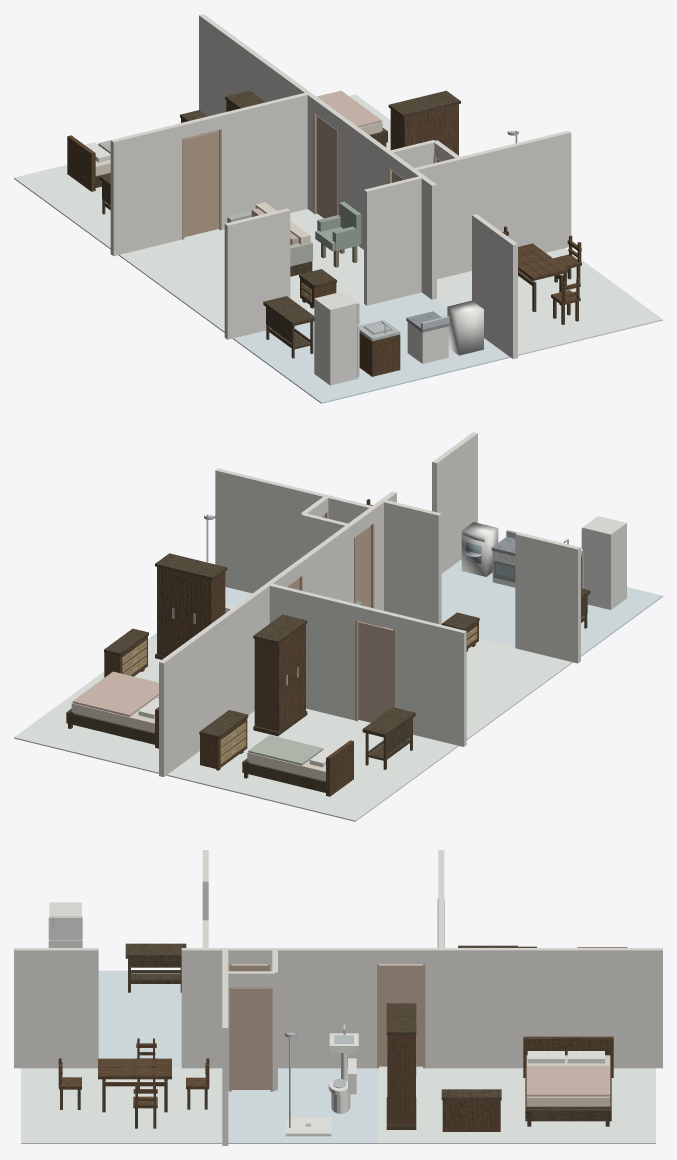
3 views of the same model, one above another, from view 1: azimuth 30°, elevation 25°; view 2: azimuth 150°, elevation 25°; view 3: azimuth 270°, elevation 25° (orthographic). The views are drawn at different scales.
Visible parts, largest first — view 1: H24_WALL_09, H24_WALL_01, H24_WALL_00, H24_FLOOR_01_SALA, H24_FLOOR_07_JANTAR, H24_FLOOR_02_COZINHA_SERVICO, H24_WALL_06, H24_WALL_07, H24_WALL_02, H24_WALL_05, H24_FURN_01_fridge__05__gabinete, H24_WALL_03 (+14 smaller); view 2: H24_WALL_02, H24_FLOOR_00_QUARTO_2, H24_WALL_09, H24_WALL_00, H24_WALL_06, H24_WALL_01, H24_WALL_07, H24_FLOOR_02_COZINHA_SERVICO, H24_FLOOR_01_SALA, H24_FLOOR_03_QUARTO_1, H24_WALL_05, H24_FURN_01_fridge__05__gabinete (+27 smaller); view 3: H24_WALL_02, H24_FLOOR_07_JANTAR, H24_FLOOR_03_QUARTO_1, H24_WALL_03, H24_WALL_05, H24_FLOOR_02_COZINHA_SERVICO, H24_FLOOR_04_BANHEIRO_A, H24_WALL_04, H24_DOOR_03_LEAF, H24_DOOR_01_LEAF, H24_FURN_13_wardrobe__06__corpo, H24_FURN_11_bed_double__08__cobertor (+23 smaller).
Boxes of the visible parts, left/top/right/bottom form: H24_WALL_09: left=414, top=130, right=571, bottom=279; H24_WALL_01: left=218, top=92, right=308, bottom=229; H24_WALL_00: left=110, top=123, right=182, bottom=256; H24_FLOOR_01_SALA: left=118, top=209, right=364, bottom=332; H24_FLOOR_07_JANTAR: left=434, top=248, right=662, bottom=355; H24_FLOOR_02_COZINHA_SERVICO: left=233, top=292, right=510, bottom=403; H24_WALL_06: left=224, top=208, right=290, bottom=339; H24_WALL_07: left=364, top=176, right=423, bottom=305; H24_WALL_02: left=199, top=14, right=318, bottom=212; H24_WALL_05: left=472, top=214, right=517, bottom=358; H24_FURN_01_fridge__05__gabinete: left=314, top=291, right=358, bottom=385; H24_WALL_03: left=337, top=115, right=394, bottom=249; H24_WALL_02: left=159, top=577, right=279, bottom=776; H24_FLOOR_00_QUARTO_2: left=166, top=708, right=458, bottom=821; H24_WALL_09: left=215, top=468, right=374, bottom=593; H24_WALL_00: left=394, top=614, right=466, bottom=746; H24_WALL_06: left=515, top=532, right=580, bottom=663; H24_WALL_01: left=267, top=583, right=358, bottom=720; H24_WALL_07: left=382, top=500, right=441, bottom=624; H24_FLOOR_02_COZINHA_SERVICO: left=441, top=559, right=662, bottom=656; H24_FLOOR_01_SALA: left=359, top=627, right=572, bottom=739; H24_FLOOR_03_QUARTO_1: left=14, top=639, right=161, bottom=773; H24_WALL_05: left=432, top=432, right=477, bottom=573; H24_FURN_01_fridge__05__gabinete: left=582, top=516, right=626, bottom=609; H24_WALL_02: left=424, top=948, right=662, bottom=1068; H24_FLOOR_07_JANTAR: left=21, top=1067, right=222, bottom=1143; H24_FLOOR_03_QUARTO_1: left=378, top=1067, right=655, bottom=1143; H24_WALL_03: left=269, top=948, right=377, bottom=1068; H24_WALL_05: left=14, top=948, right=98, bottom=1068; H24_FLOOR_02_COZINHA_SERVICO: left=98, top=970, right=181, bottom=1066; H24_FLOOR_04_BANHEIRO_A: left=275, top=1068, right=377, bottom=1143; H24_WALL_04: left=181, top=948, right=230, bottom=1068; H24_DOOR_03_LEAF: left=231, top=988, right=270, bottom=1089; H24_DOOR_01_LEAF: left=379, top=965, right=422, bottom=1066; H24_FURN_13_wardrobe__06__corpo: left=387, top=1035, right=415, bottom=1125; H24_FURN_11_bed_double__08__cobertor: left=526, top=1066, right=610, bottom=1096.
Bounding box in the file's own units: 7.88 × 2.46 × 12.14.
21 materials, 3 textured.
